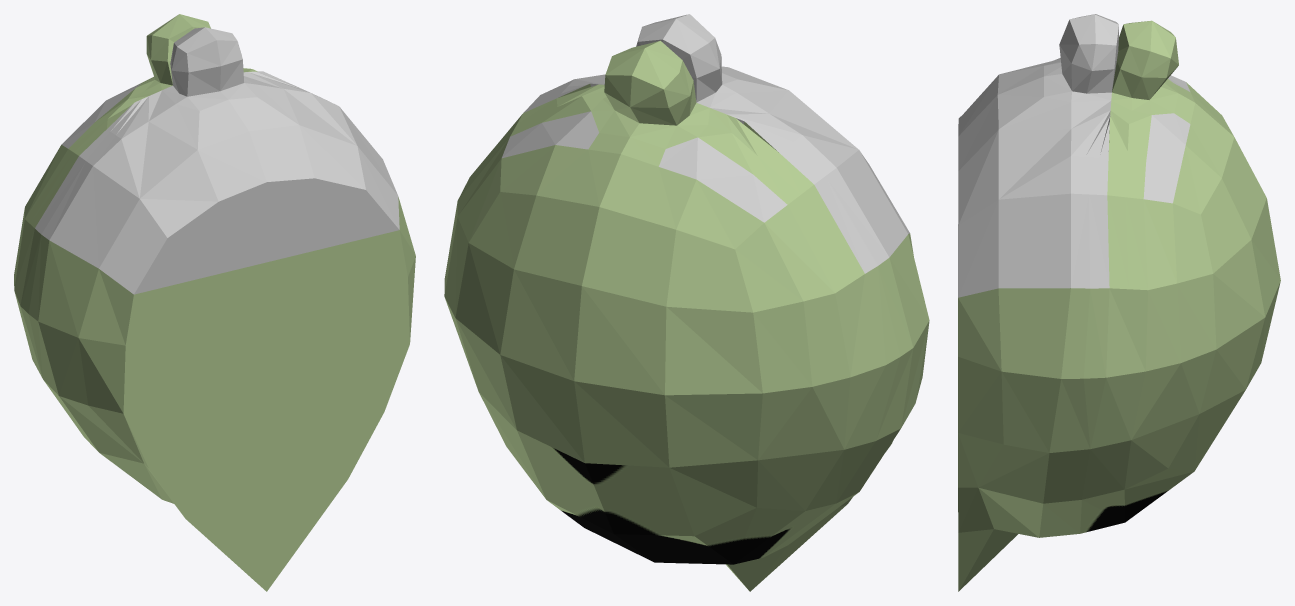
The model's file is BR_Gulpin-Shiny01.obj.
3 renders of one model, left to right at view 1: azimuth 30°, elevation 25°; view 2: azimuth 150°, elevation 25°; view 3: azimuth 270°, elevation 25°, orthographic. The views are drawn at different scales.
Parts seen in each view (by area): view 1: gokulin; view 2: gokulin; view 3: gokulin.
Boxes of the visible parts, x1=… form: gokulin: x1=14, y1=14, x2=415, y2=591; gokulin: x1=444, y1=14, x2=929, y2=591; gokulin: x1=958, y1=14, x2=1280, y2=591.
Bounding box in the file's own units: 4.48 × 6.12 × 3.1.
